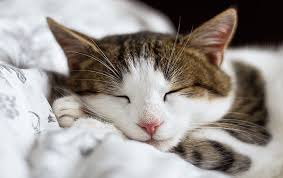Gato: (45, 13, 250, 170)
